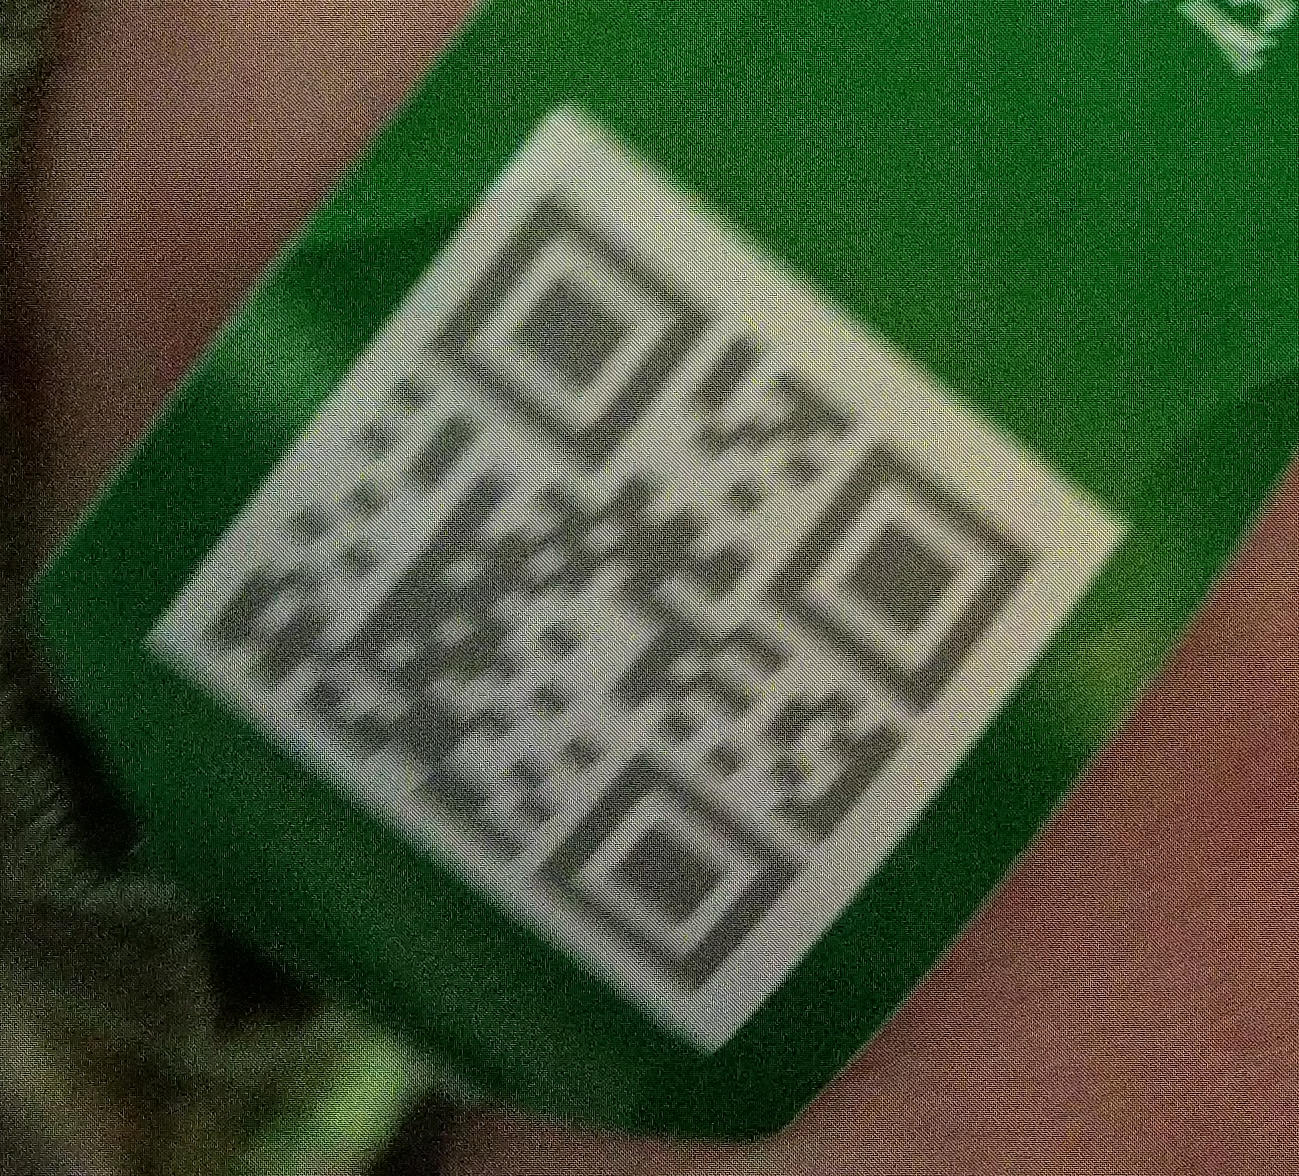QR_CODE: (160, 145, 1049, 1005)
